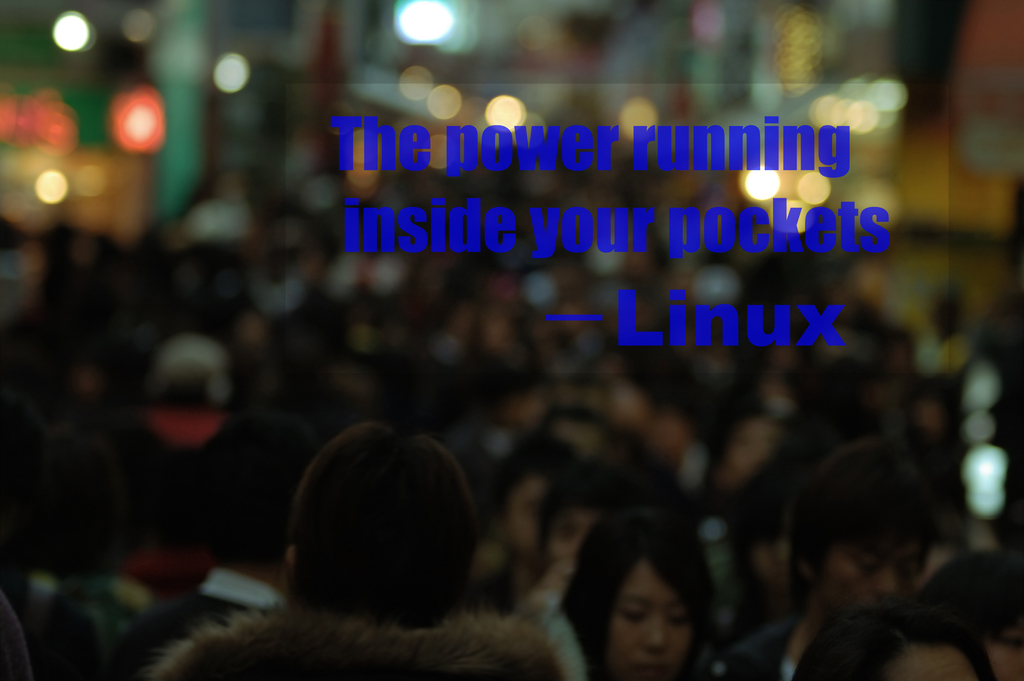Human-face: (604, 562, 692, 680), (820, 532, 920, 610), (891, 648, 978, 680)
